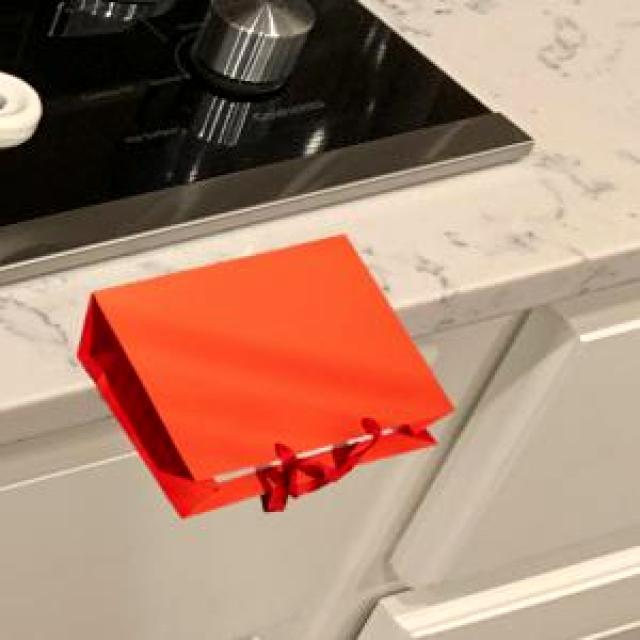Paper_Bag: (74, 232, 452, 516)
